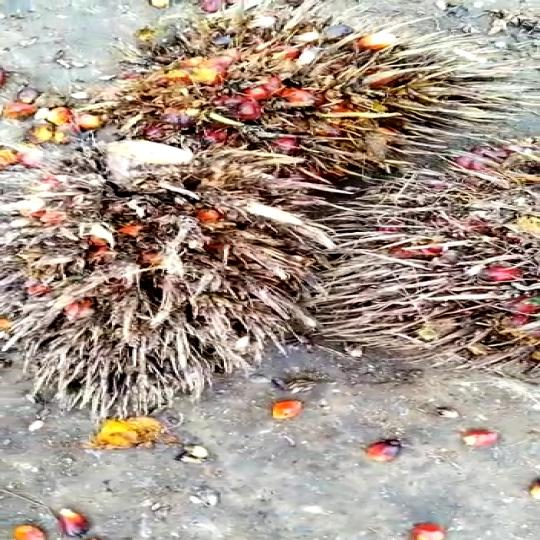terlalu masak: (0, 162, 326, 400), (92, 16, 441, 192)
